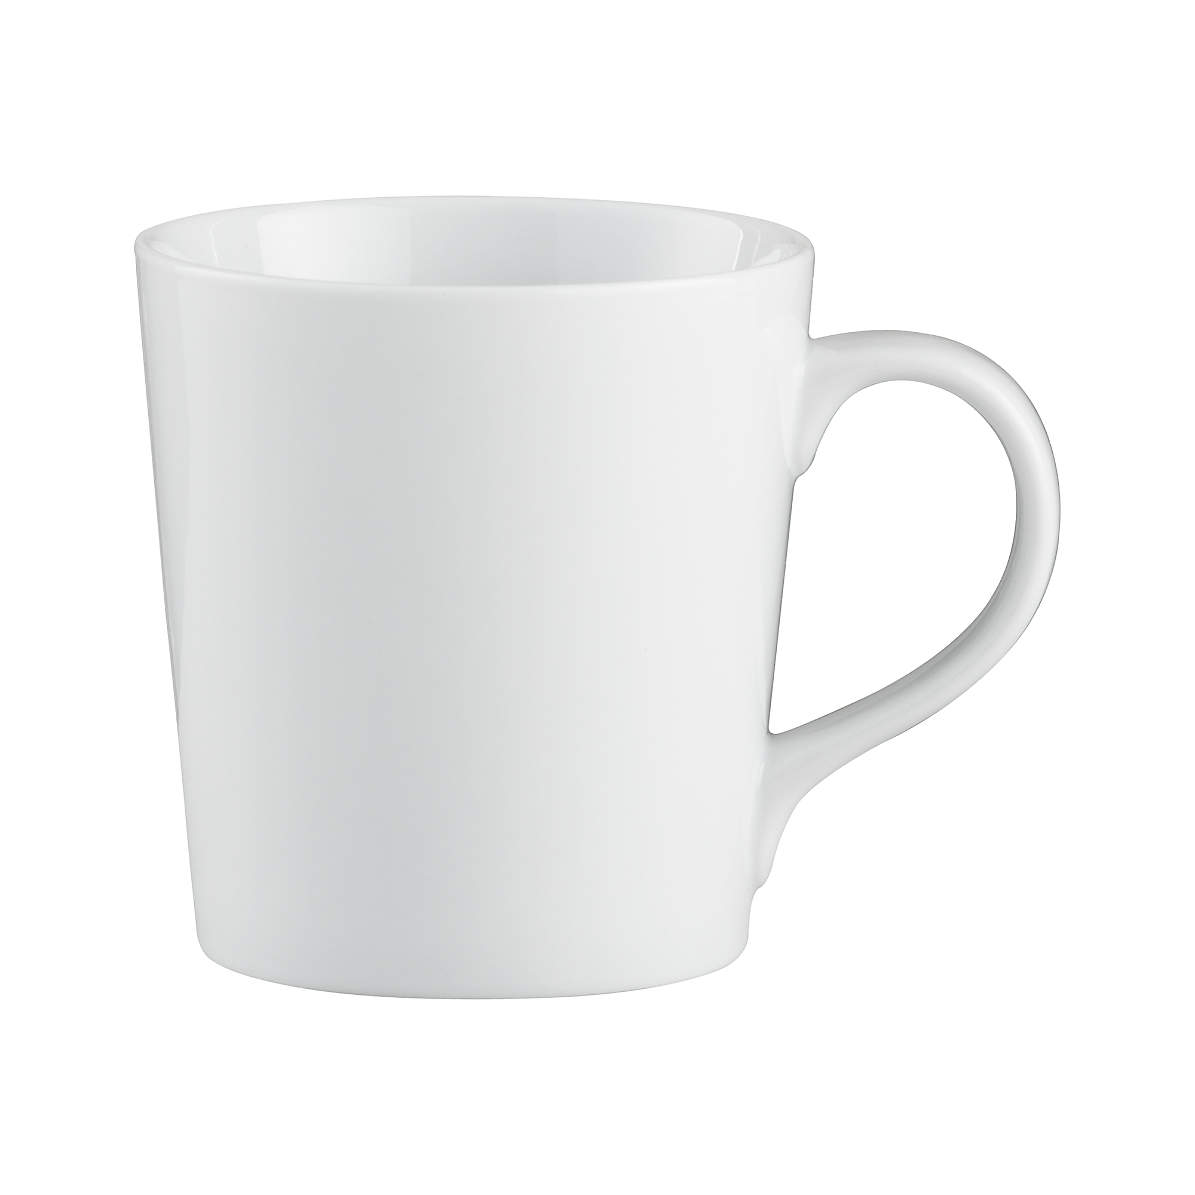gelas: (131, 190, 1064, 991)
